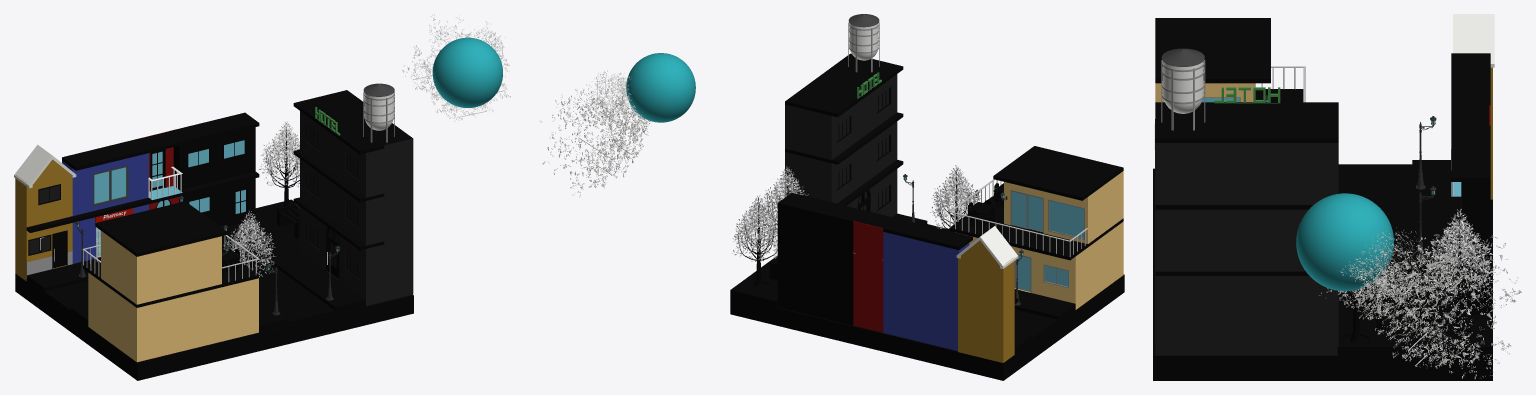
The model's file is Teste v43.fbx.
3 renders of one model, left to right at view 1: azimuth 30°, elevation 25°; view 2: azimuth 150°, elevation 25°; view 3: azimuth 270°, elevation 25°, orthographic. The views are drawn at different scales.
Visible parts, largest first — view 1: Hotel, Loja 4 (1), Base, Loja 4 (1) (1), Casa 4, Telhados (3), Casa, Telhados (1), Loja 2, Body11, Arore (×2), Telhados (+22 smaller); view 2: Hotel, Casa 4, Base, Loja 2, Casa, Arore (×4), Arore (1) (×2), Loja 4 (1), Telhados (3), Telhados (1), Casa 3, Telhados (+17 smaller); view 3: Hotel, Base, Arore (1) (×3), Telhados (3), Telhados, Telhados (1), Telhados (2), Calçada, Rua, Arore (×2), Calçada (3), Casa 4 (+18 smaller).
Boxes of the visible parts, <box> form: Hotel: <box>300,111,413,305</box>; Loja 4 (1): <box>88,273,258,362</box>; Base: <box>15,210,413,380</box>; Loja 4 (1) (1): <box>101,231,221,304</box>; Casa 4: <box>173,127,255,227</box>; Telhados (3): <box>432,37,502,107</box>; Casa: <box>15,159,72,281</box>; Telhados (1): <box>95,201,226,253</box>; Loja 2: <box>62,153,148,263</box>; Body11: <box>243,232,365,313</box>; Arore (×2): <box>223,121,299,277</box>; Telhados: <box>294,90,412,151</box>; Hotel: <box>785,74,897,216</box>; Casa 4: <box>777,203,853,325</box>; Base: <box>730,274,1124,380</box>; Loja 2: <box>883,232,969,350</box>; Casa: <box>958,240,1014,362</box>; Arore (×4): <box>582,70,984,261</box>; Arore (1) (×2): <box>539,87,777,286</box>; Loja 4 (1): <box>955,221,1123,309</box>; Telhados (3): <box>626,53,695,122</box>; Telhados (1): <box>994,146,1123,197</box>; Casa 3: <box>853,221,883,332</box>; Telhados: <box>785,53,902,113</box>; Hotel: <box>1155,119,1338,355</box>; Base: <box>1153,168,1492,380</box>; Arore (1) (×3): <box>1331,211,1521,379</box>; Telhados (3): <box>1296,193,1393,291</box>; Telhados: <box>1155,102,1338,138</box>; Telhados (1): <box>1155,18,1270,78</box>; Telhados (2): <box>1451,53,1490,177</box>; Calçada: <box>1412,160,1458,314</box>; Rua: <box>1338,164,1412,294</box>; Arore (×2): <box>1340,209,1495,301</box>; Calçada (3): <box>1338,315,1492,346</box>; Casa 4: <box>1461,182,1490,314</box>.
Size of the model in its own units: 31310 by 14232 by 15067.
